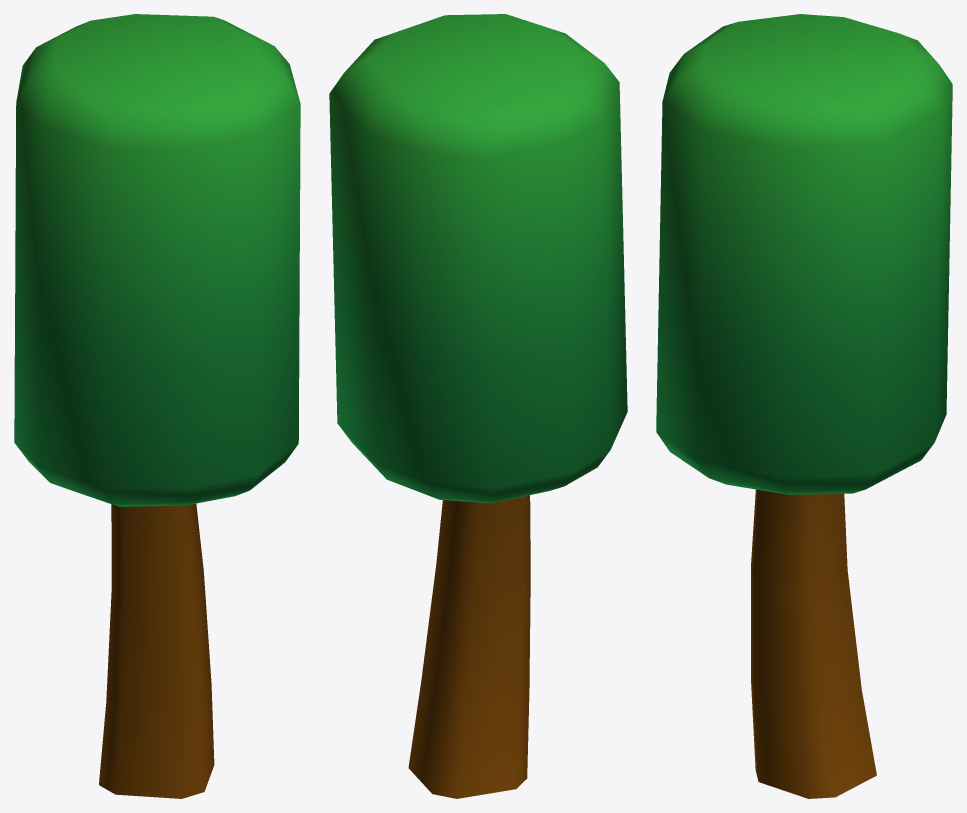
Rendered from Tree_A_1.glb.
3 views of the same model, side by side, from view 1: azimuth 30°, elevation 25°; view 2: azimuth 150°, elevation 25°; view 3: azimuth 270°, elevation 25° (orthographic).
Parts seen in each view (by area): view 1: Tree_A_1; view 2: Tree_A_1; view 3: Tree_A_1.
Boxes of the visible parts, bbox=[...] form: Tree_A_1: bbox=[14, 14, 300, 798]; Tree_A_1: bbox=[329, 14, 627, 798]; Tree_A_1: bbox=[656, 14, 952, 798].
Size of the model in its own units: 1.27 by 3.48 by 1.3.
Materials: 1 (1 with a texture image).
